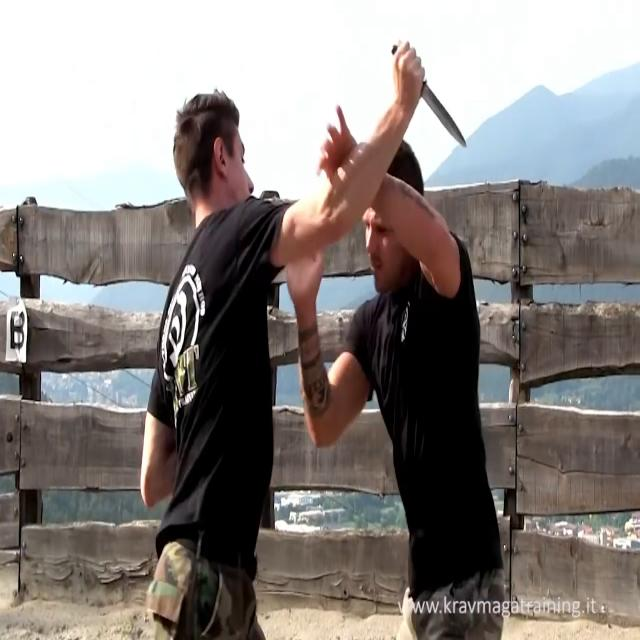knife: (424, 82, 472, 153)
